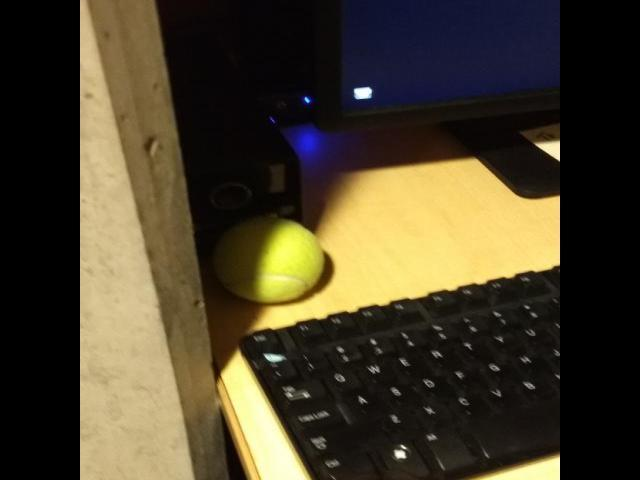tennis-ball: (205, 215, 331, 306)
